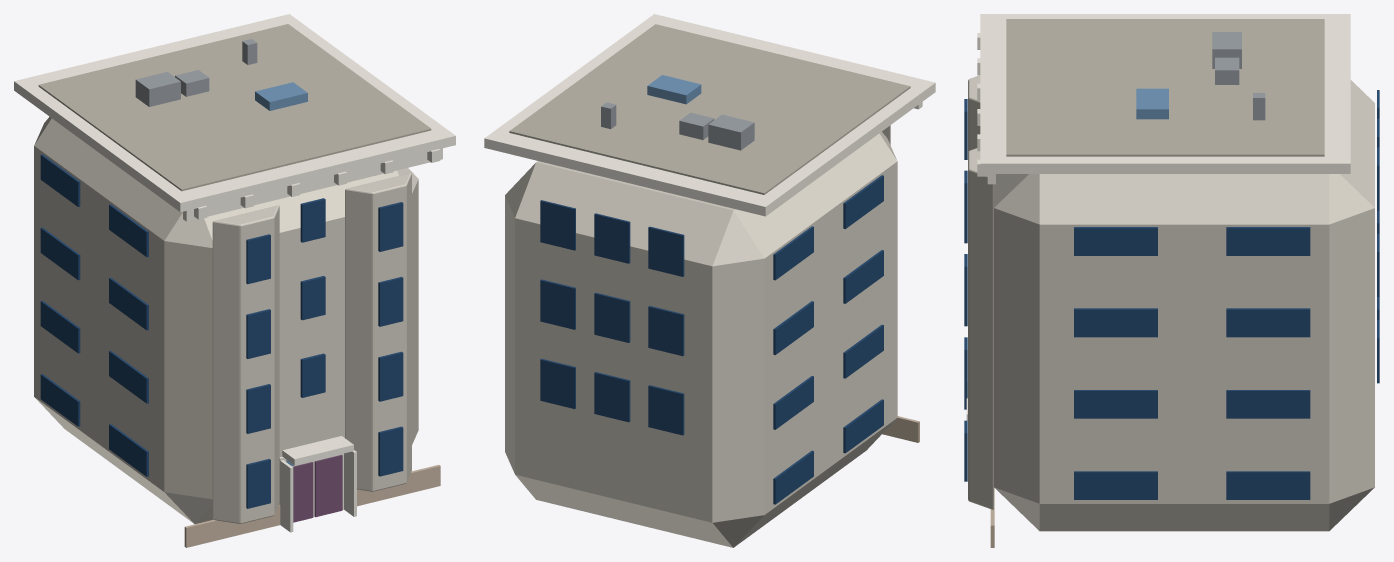
Rendered from apt_w12_f4_bays.glb.
The picture shows the model from 3 angles, left to right: view 1: azimuth 30°, elevation 25°; view 2: azimuth 150°, elevation 25°; view 3: azimuth 270°, elevation 25°; orthographic projection. The views are drawn at different scales.
Visible parts, largest first — view 1: walls, roofslab, bay, bay.001, corn, bsmt, frieze, door.001, hvac, canopy, door, bw.004 (+22 smaller); view 2: walls, roofslab, corn, win.006, win, win.001, win.003, win.004, win.007, win.008, win.002, win.005 (+12 smaller); view 3: walls, roofslab, corn, bay.001, sb.011, sb.009, sb.003, sb.007, sb.015, sb.001, sb.005, sb.013 (+4 smaller).
Boxes of the visible parts, x1=… form: walls: x1=34, y1=116, x2=418, y2=523; roofslab: x1=38, y1=24, x2=431, y2=191; bay: x1=212, y1=205, x2=279, y2=523; bay.001: x1=345, y1=173, x2=411, y2=491; corn: x1=14, y1=14, x2=455, y2=212; bsmt: x1=184, y1=465, x2=440, y2=547; frieze: x1=183, y1=148, x2=442, y2=221; door.001: x1=314, y1=454, x2=342, y2=517; hvac: x1=135, y1=72, x2=180, y2=106; canopy: x1=282, y1=436, x2=353, y2=465; door: x1=293, y1=462, x2=313, y2=522; bw.004: x1=378, y1=426, x2=403, y2=476; walls: x1=505, y1=131, x2=897, y2=547; roofslab: x1=509, y1=24, x2=910, y2=194; corn: x1=484, y1=14, x2=935, y2=216; win.006: x1=648, y1=226, x2=684, y2=276; win: x1=648, y1=385, x2=684, y2=435; win.001: x1=594, y1=372, x2=630, y2=422; win.003: x1=648, y1=306, x2=684, y2=356; win.004: x1=594, y1=292, x2=630, y2=342; win.007: x1=594, y1=213, x2=630, y2=263; win.008: x1=540, y1=200, x2=575, y2=250; win.002: x1=540, y1=358, x2=575, y2=408; win.005: x1=540, y1=279, x2=575, y2=329; walls: x1=994, y1=80, x2=1374, y2=531; roofslab: x1=1006, y1=19, x2=1324, y2=156; corn: x1=980, y1=14, x2=1350, y2=173; bay.001: x1=968, y1=148, x2=993, y2=509; sb.011: x1=1226, y1=308, x2=1310, y2=337; sb.009: x1=1074, y1=308, x2=1157, y2=337; sb.003: x1=1226, y1=471, x2=1310, y2=499; sb.007: x1=1226, y1=390, x2=1310, y2=418; sb.015: x1=1226, y1=227, x2=1310, y2=255; sb.001: x1=1074, y1=471, x2=1157, y2=499; sb.005: x1=1074, y1=390, x2=1157, y2=418; sb.013: x1=1074, y1=227, x2=1157, y2=255.
Size of the model in its own units: 13 by 16.8 by 15.26.
